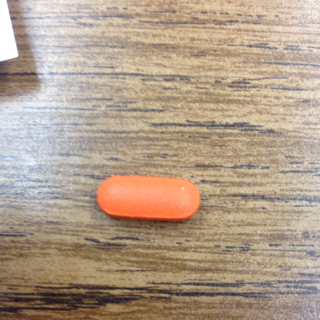Ibuprofen 200 MG Oral Tablet: (93, 169, 203, 225)
